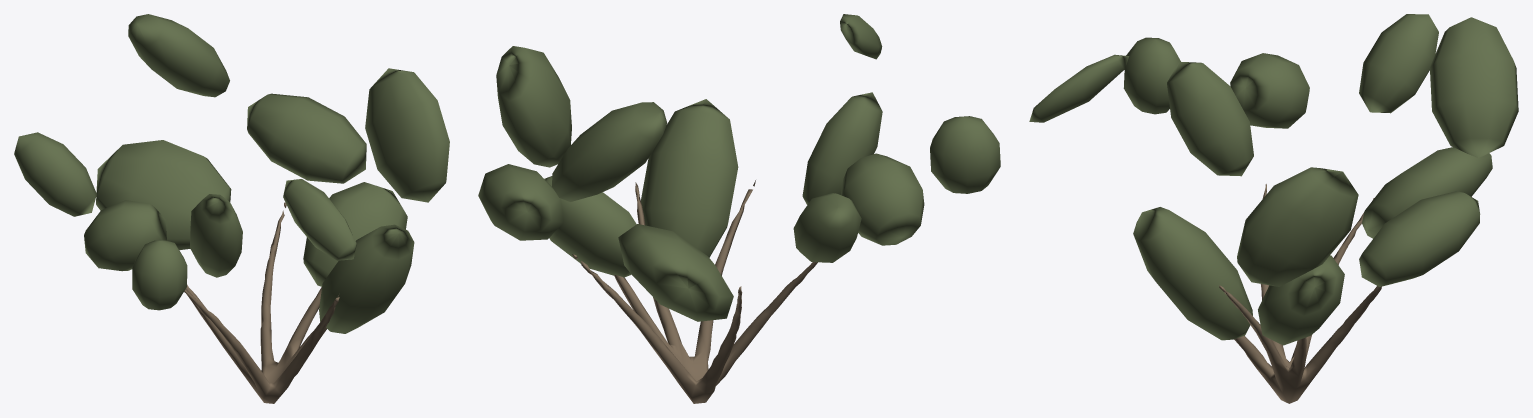
File: Ciste_2_Niveau2.fbx
3 renders of one model, left to right at view 1: azimuth 30°, elevation 25°; view 2: azimuth 150°, elevation 25°; view 3: azimuth 270°, elevation 25°, orthographic. The views are drawn at different scales.
Parts seen in each view (by area): view 1: Ciste_2_Niveau2_Jeu; view 2: Ciste_2_Niveau2_Jeu; view 3: Ciste_2_Niveau2_Jeu.
Boxes of the visible parts, x1,y1,x2,y2 form: Ciste_2_Niveau2_Jeu: (14,14,449,403); Ciste_2_Niveau2_Jeu: (478,14,1000,403); Ciste_2_Niveau2_Jeu: (1029,14,1518,403).
Size of the model in its own units: 77.9 by 67.29 by 82.97.
